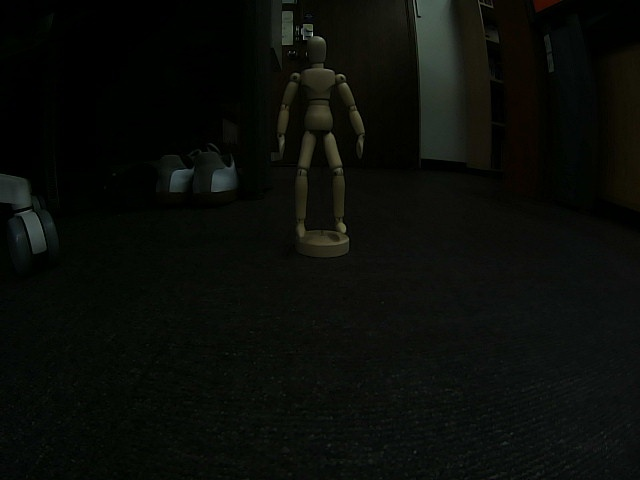person: (276, 36, 367, 238)
